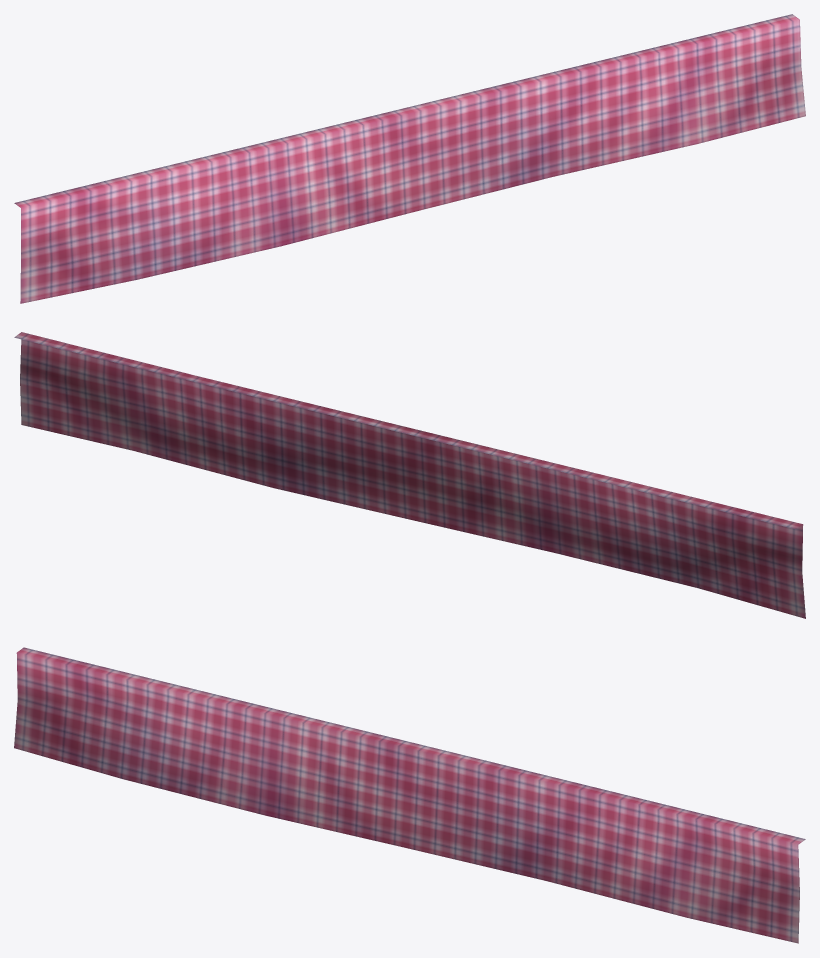
The model's file is jsf_BlindfoldCloth_4P_s03_02.fbx.
3 views of the same model, one above another, from view 1: azimuth 30°, elevation 25°; view 2: azimuth 150°, elevation 25°; view 3: azimuth 330°, elevation 25° (orthographic).
Parts seen in each view (by area): view 1: jsf_BlindfoldCloth_4P_s03_02; view 2: jsf_BlindfoldCloth_4P_s03_02; view 3: jsf_BlindfoldCloth_4P_s03_02.
Boxes of the visible parts, x1,y1,x2,y2 form: jsf_BlindfoldCloth_4P_s03_02: (14,14,805,303); jsf_BlindfoldCloth_4P_s03_02: (14,332,805,618); jsf_BlindfoldCloth_4P_s03_02: (14,647,805,943).
Size of the model in its own units: 257 by 30 by 7.76.
